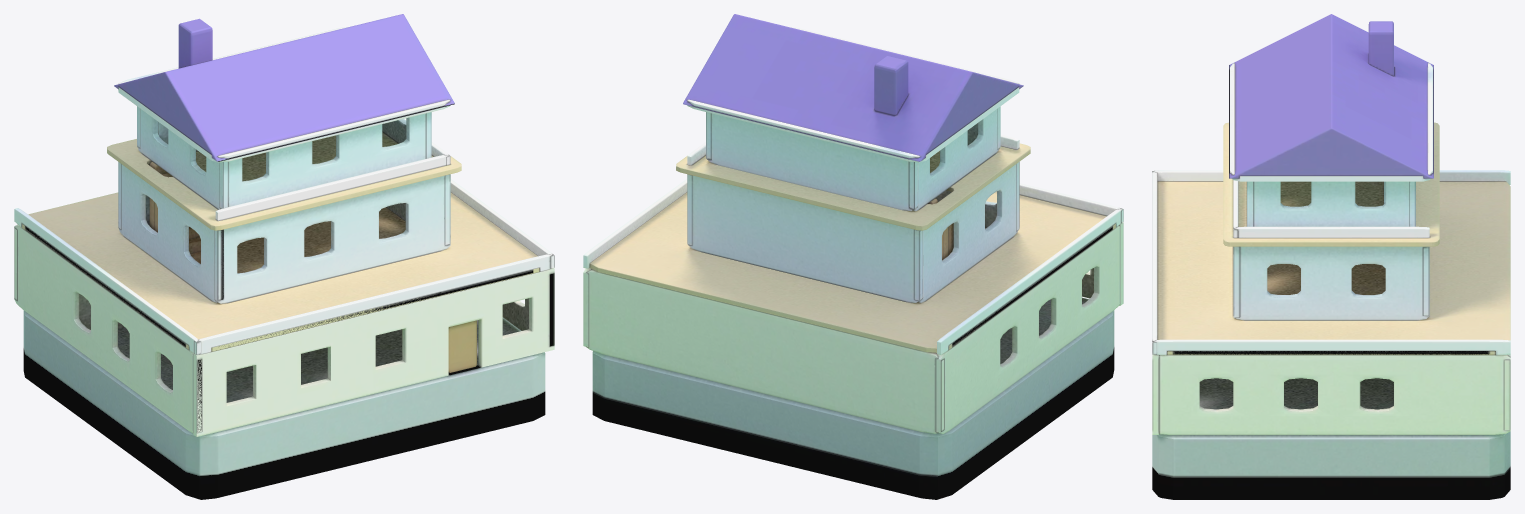
The model's file is House-transformed.glb.
The picture shows the model from 3 angles, left to right: view 1: azimuth 30°, elevation 25°; view 2: azimuth 150°, elevation 25°; view 3: azimuth 270°, elevation 25°; orthographic projection.
Parts seen in each view (by area): view 1: House; view 2: House; view 3: House.
Boxes of the visible parts, bbox=[...] form: House: bbox=[14, 14, 554, 499]; House: bbox=[583, 14, 1123, 499]; House: bbox=[1152, 14, 1510, 499].
Size of the model in its own units: 24 by 23.6 by 21.2.
Materials: 1 (1 with a texture image).
